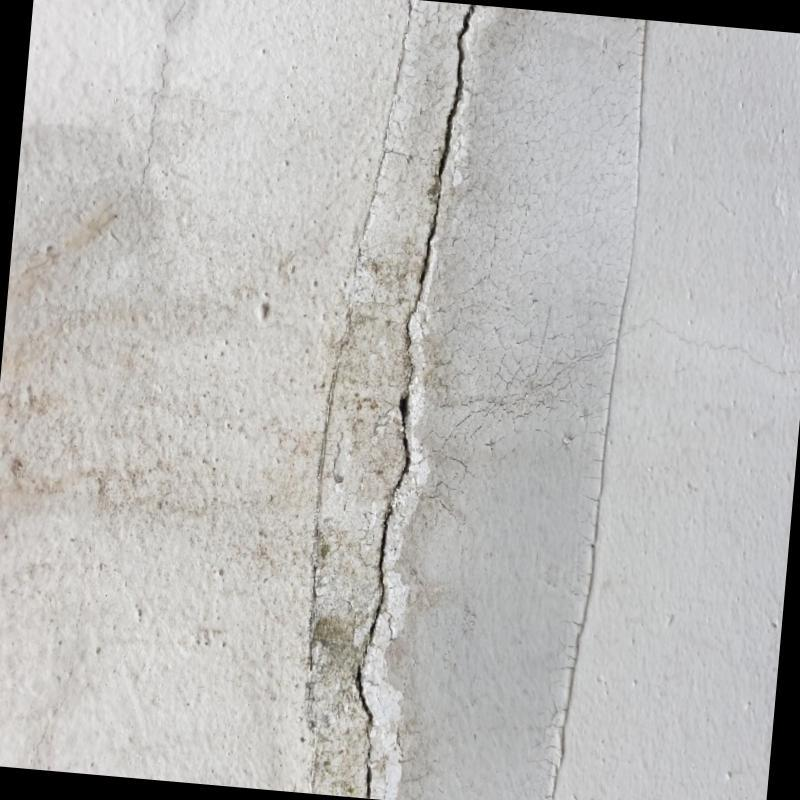pothole: (355, 8, 476, 795)
